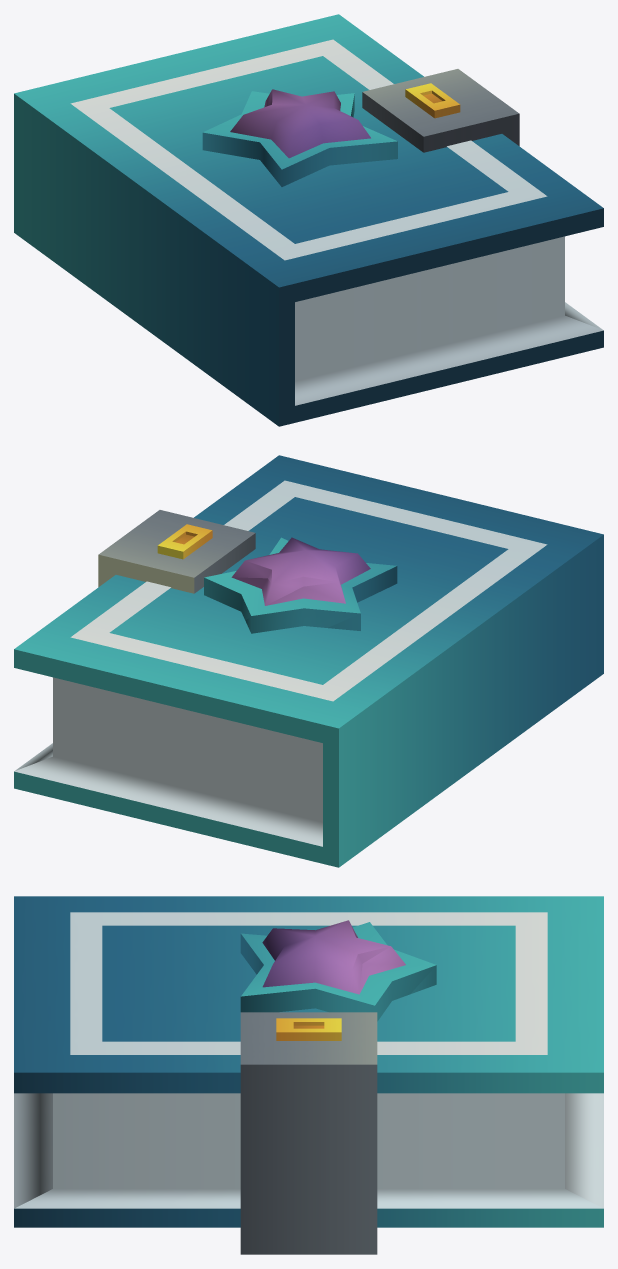
Rendered from book2.fbx.
The picture shows the model from 3 angles, top to bottom: view 1: azimuth 30°, elevation 25°; view 2: azimuth 150°, elevation 25°; view 3: azimuth 270°, elevation 25°; orthographic projection. The views are drawn at different scales.
Parts seen in each view (by area): view 1: Book2; view 2: Book2; view 3: Book2.
Part boxes in pixels (x1,y1,x2,y2): Book2: (14, 14, 603, 426); Book2: (14, 455, 603, 867); Book2: (14, 896, 603, 1254).
Bounding box in the file's own units: 1.16 × 0.6429 × 1.55.
1 material, 1 textured.
